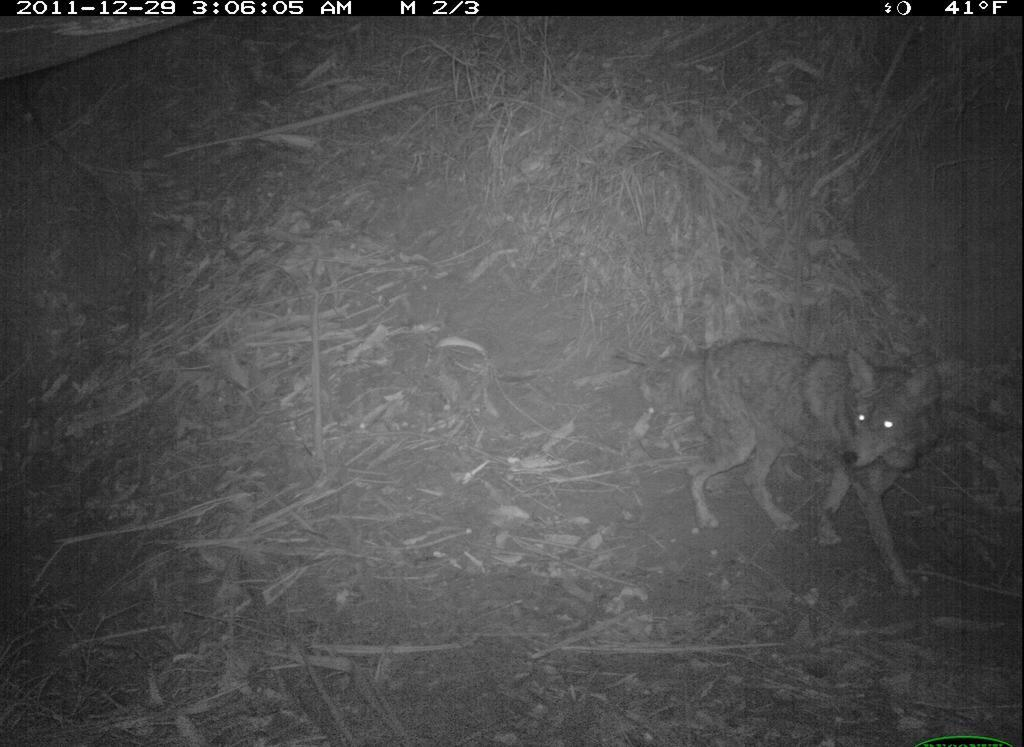coyote: (628, 331, 954, 610)
